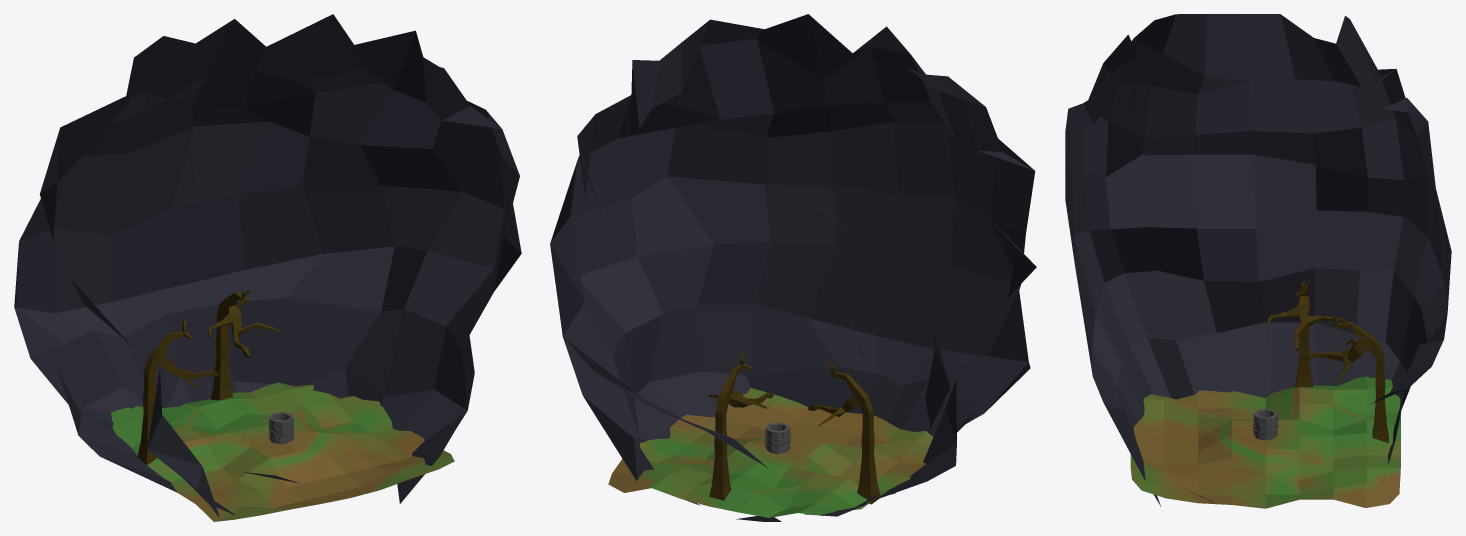
3 renders of one model, left to right at view 1: azimuth 30°, elevation 25°; view 2: azimuth 150°, elevation 25°; view 3: azimuth 270°, elevation 25°, orthographic. The views are drawn at different scales.
Parts seen in each view (by area): view 1: Cave.001, Ground.001, Tree.001, Tree.003, Well.001; view 2: Cave.001, Ground.001, Tree.003, Tree.001, Well.001; view 3: Cave.001, Ground.001, Tree.001, Tree.003, Well.001.
Boxes of the visible parts, x1,y1,x2,y2 form: Cave.001: [14, 14, 521, 516]; Ground.001: [111, 382, 454, 521]; Tree.001: [207, 289, 279, 400]; Tree.003: [137, 319, 218, 465]; Well.001: [268, 412, 293, 443]; Cave.001: [550, 14, 1036, 521]; Ground.001: [608, 388, 933, 517]; Tree.003: [808, 363, 880, 504]; Tree.001: [708, 352, 773, 500]; Well.001: [765, 422, 790, 453]; Cave.001: [1065, 14, 1451, 506]; Ground.001: [1130, 376, 1400, 508]; Tree.001: [1302, 316, 1388, 443]; Tree.003: [1267, 280, 1346, 387]; Well.001: [1253, 409, 1278, 440].
Size of the model in its own units: 40.79 by 40.11 by 33.22.
6 materials, 2 textured.
